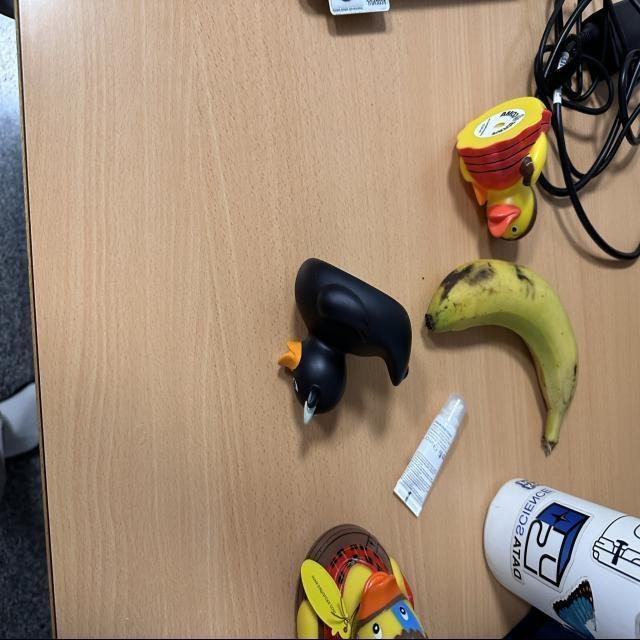rubber-duck: (277, 257, 410, 422), (295, 523, 425, 638), (455, 96, 549, 238)
